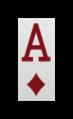AD: (20, 20, 53, 98)
